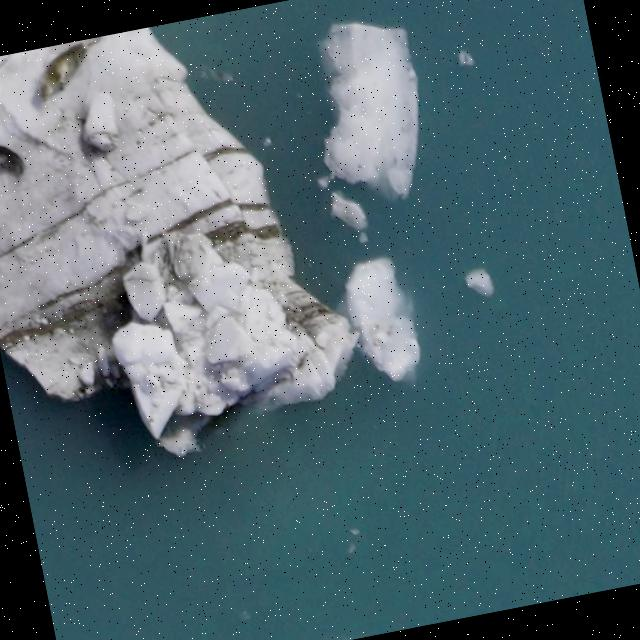seal: (27, 23, 101, 107), (0, 145, 24, 179)
